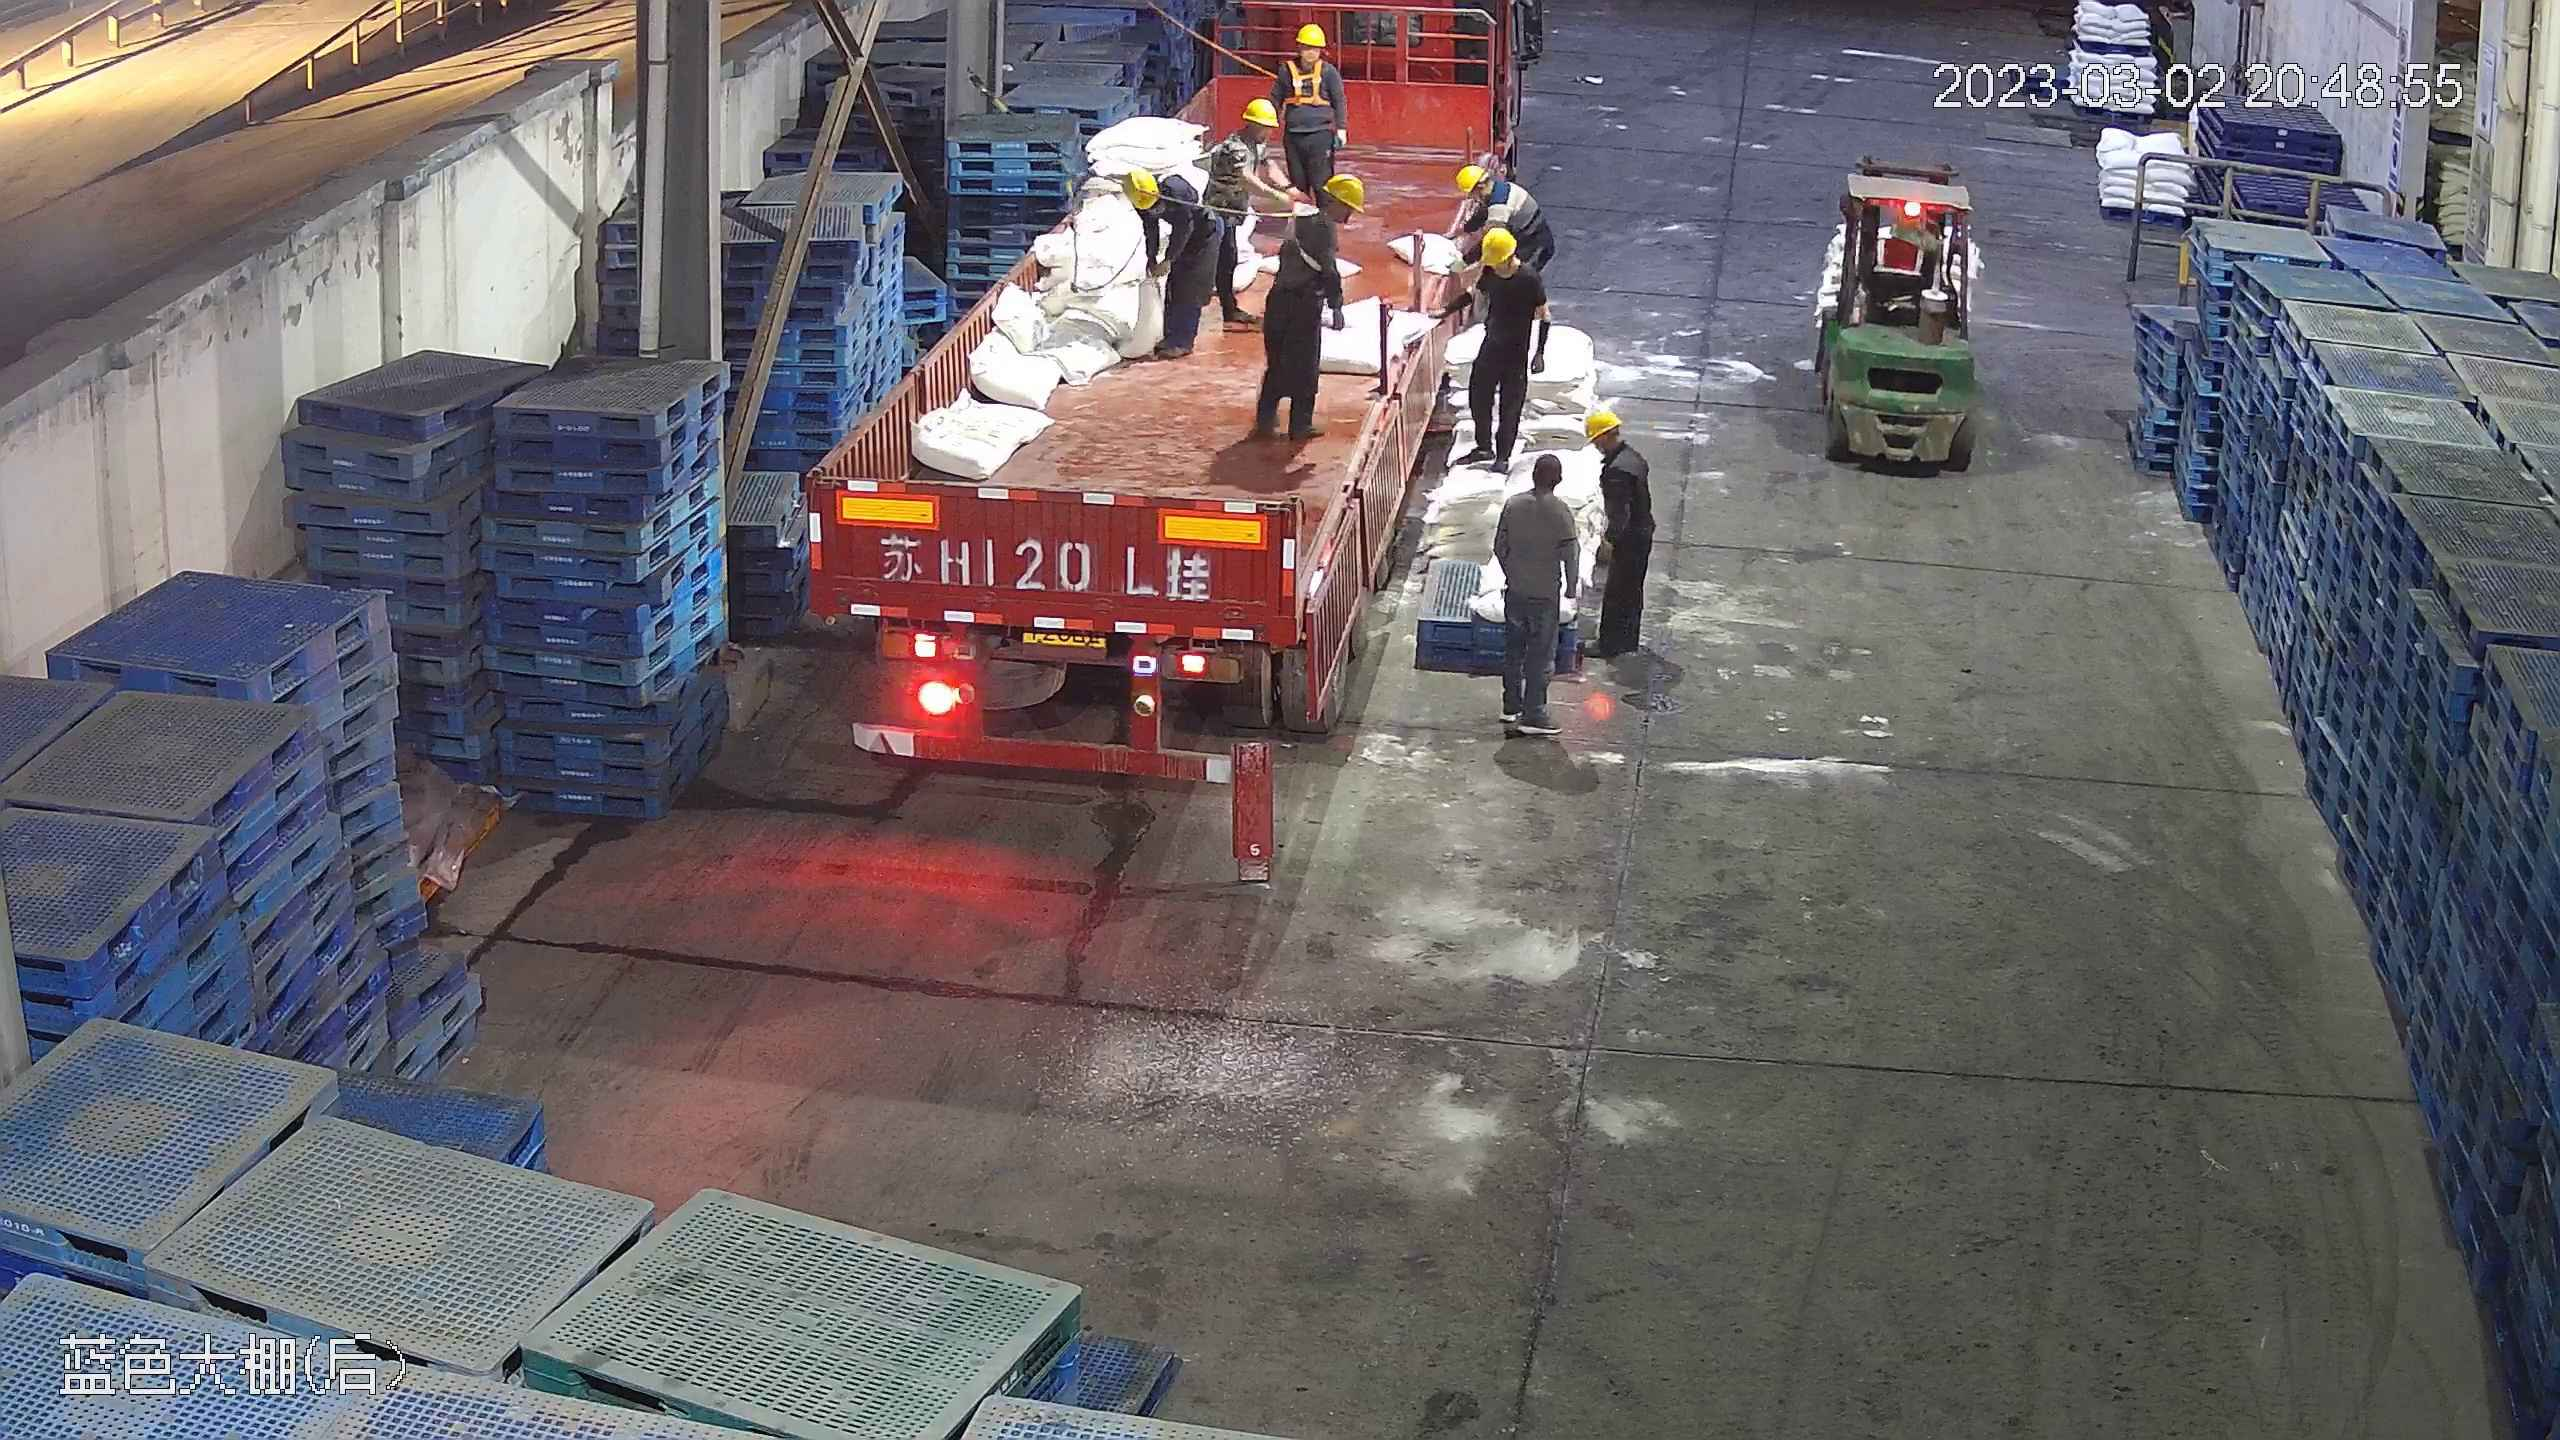belt: (1269, 204, 1339, 275), (1278, 53, 1334, 110), (1203, 129, 1245, 193), (1158, 171, 1207, 214)
head: (1274, 173, 1367, 260), (1496, 445, 1583, 532), (1459, 215, 1544, 302), (1586, 408, 1649, 497), (1455, 163, 1537, 226), (1120, 167, 1200, 231), (1270, 20, 1341, 87), (1214, 99, 1281, 167)
helmet: (1319, 171, 1368, 211), (1478, 224, 1518, 268), (1120, 167, 1156, 209), (1584, 409, 1623, 438), (1453, 162, 1485, 191), (1237, 96, 1274, 123), (1292, 20, 1326, 44)
people: (1244, 171, 1366, 443), (1484, 431, 1583, 733), (1437, 223, 1547, 471), (1118, 166, 1238, 353), (1198, 100, 1285, 324), (1588, 407, 1658, 662), (1263, 18, 1349, 208)
truck: (819, 41, 1529, 776)
